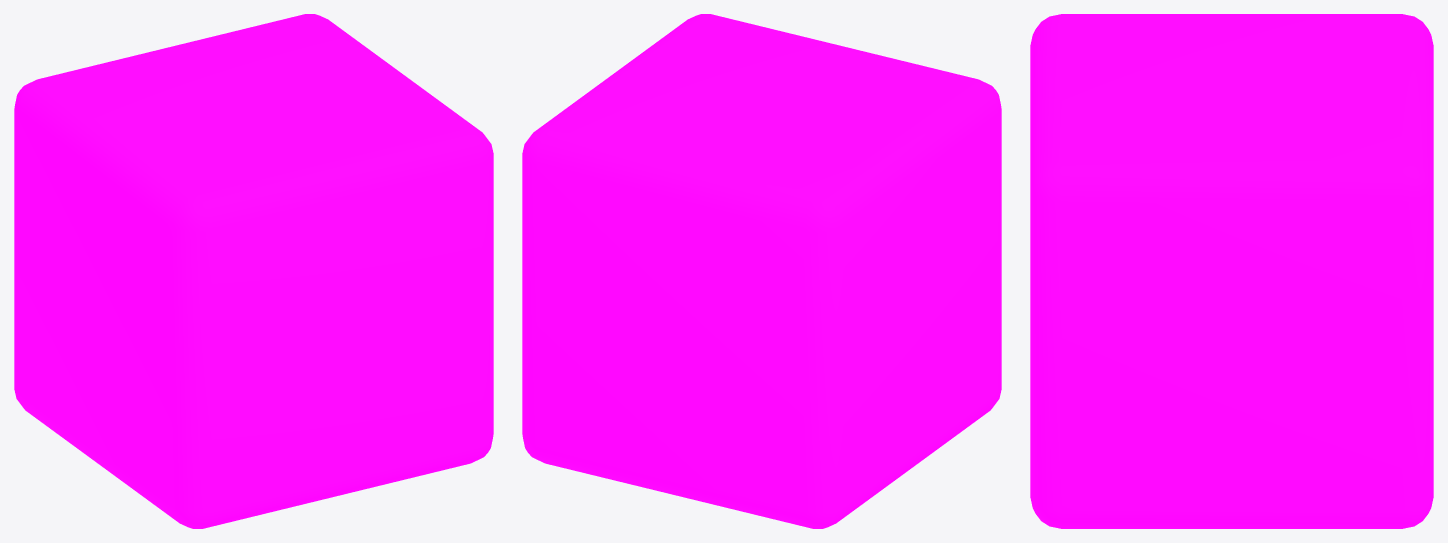
File: neon.fbx
The picture shows the model from 3 angles, left to right: view 1: azimuth 30°, elevation 25°; view 2: azimuth 150°, elevation 25°; view 3: azimuth 270°, elevation 25°; orthographic projection. The views are drawn at different scales.
Visible parts, largest first — view 1: Cube.012; view 2: Cube.012; view 3: Cube.012.
Part boxes in pixels (x1=…): Cube.012: x1=14, y1=14, x2=493, y2=528; Cube.012: x1=522, y1=14, x2=1001, y2=528; Cube.012: x1=1030, y1=14, x2=1433, y2=528.
Size of the model in its own units: 200 by 200 by 200.
